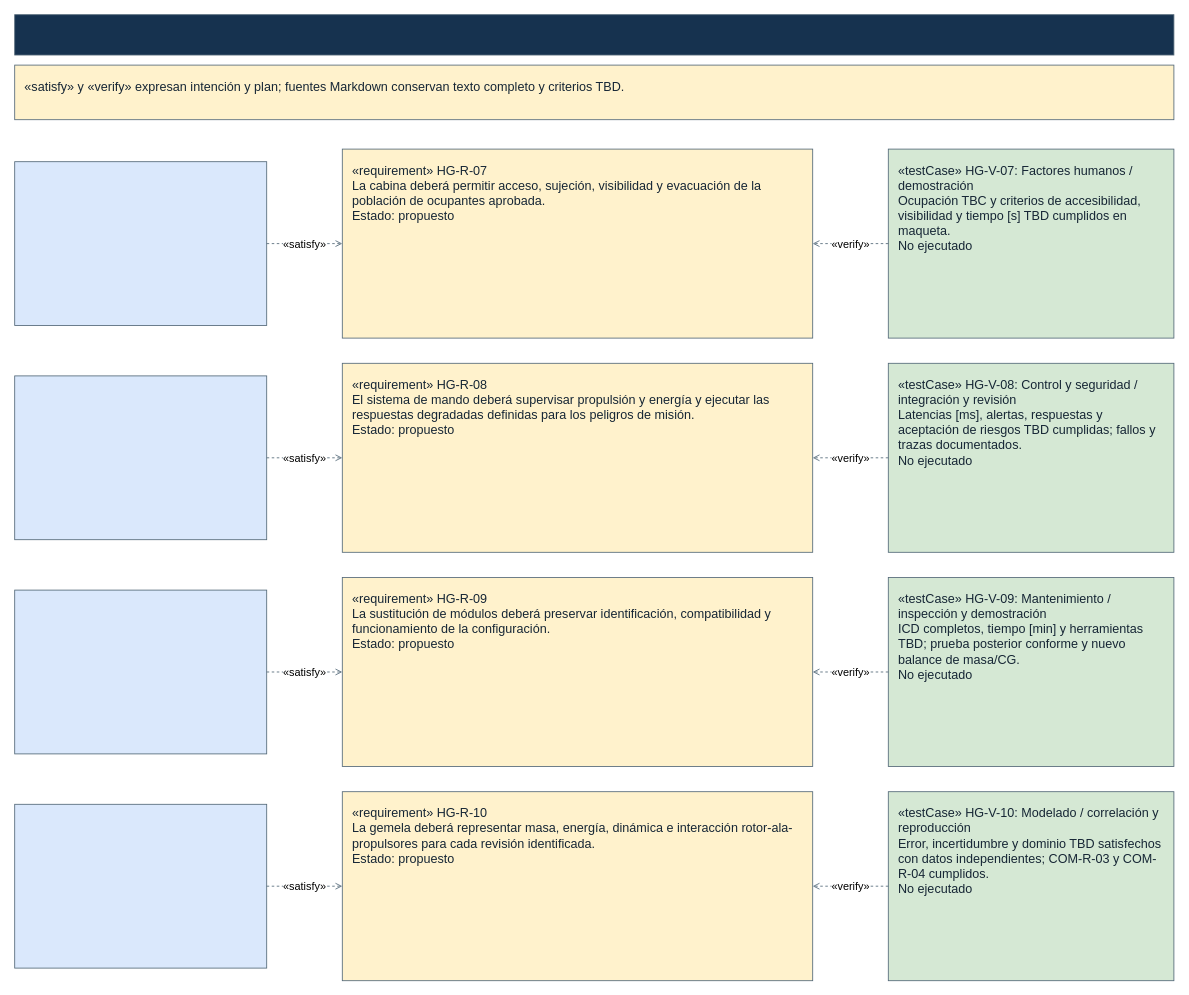
The diagram is 1189 pixels wide and 995 high, and some of its shapes have lost their labels. The centre of each missing label's shape, as x and y in pixels:
req [HG] Requisitos 2/2: the point at 594,34
«block» HG-M-00 HG-SIM-MB Asignación candidata: the point at 140,671
«block» HG-M-02 Asignación candidata: the point at 140,243
«block» HG-M-05 HG-SIM-CT Asignación candidata: the point at 140,457
«block» HG-M-06 HG-SIM-MB, HG-SIM-WI, HG-SIM-FD, HG-SIM-EN Asignación candidata: the point at 140,885
